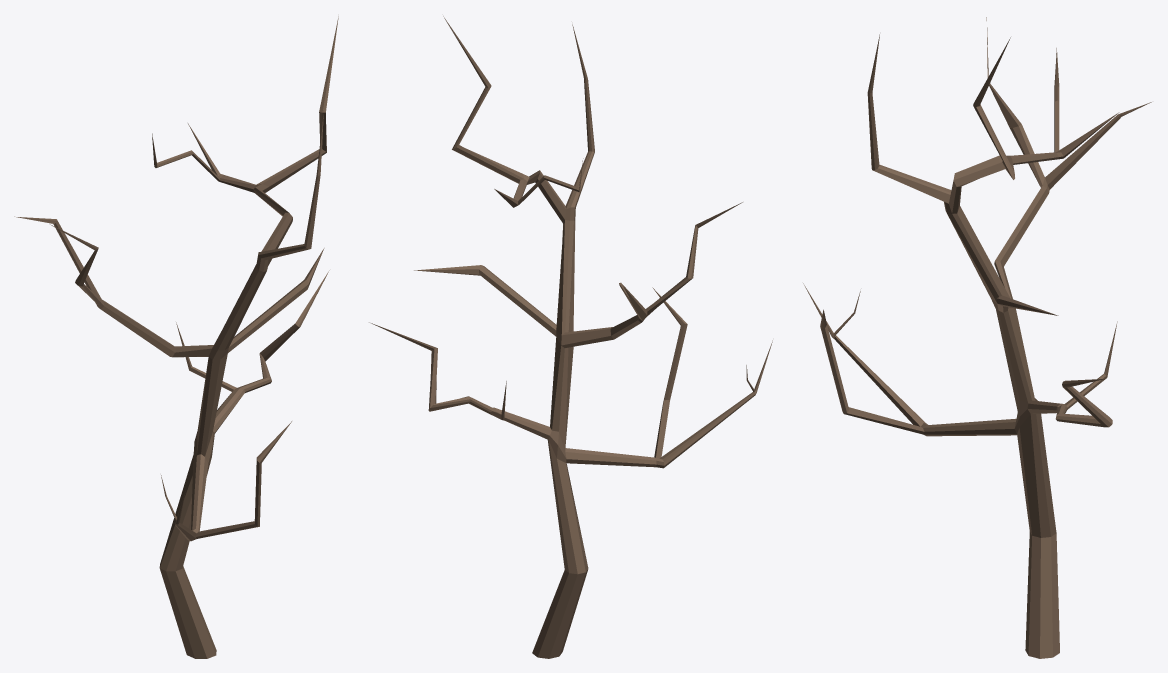
The model's file is Tree_2.fbx.
The picture shows the model from 3 angles, left to right: view 1: azimuth 30°, elevation 25°; view 2: azimuth 150°, elevation 25°; view 3: azimuth 270°, elevation 25°; orthographic projection. The views are drawn at different scales.
Visible parts, largest first — view 1: Tree_2; view 2: Tree_2; view 3: Tree_2.
Boxes of the visible parts, x1=… form: Tree_2: x1=14, y1=16, x2=338, y2=658; Tree_2: x1=369, y1=16, x2=772, y2=658; Tree_2: x1=803, y1=17, x2=1151, y2=658.
Bounding box in the file's own units: 262 × 215 × 460.
